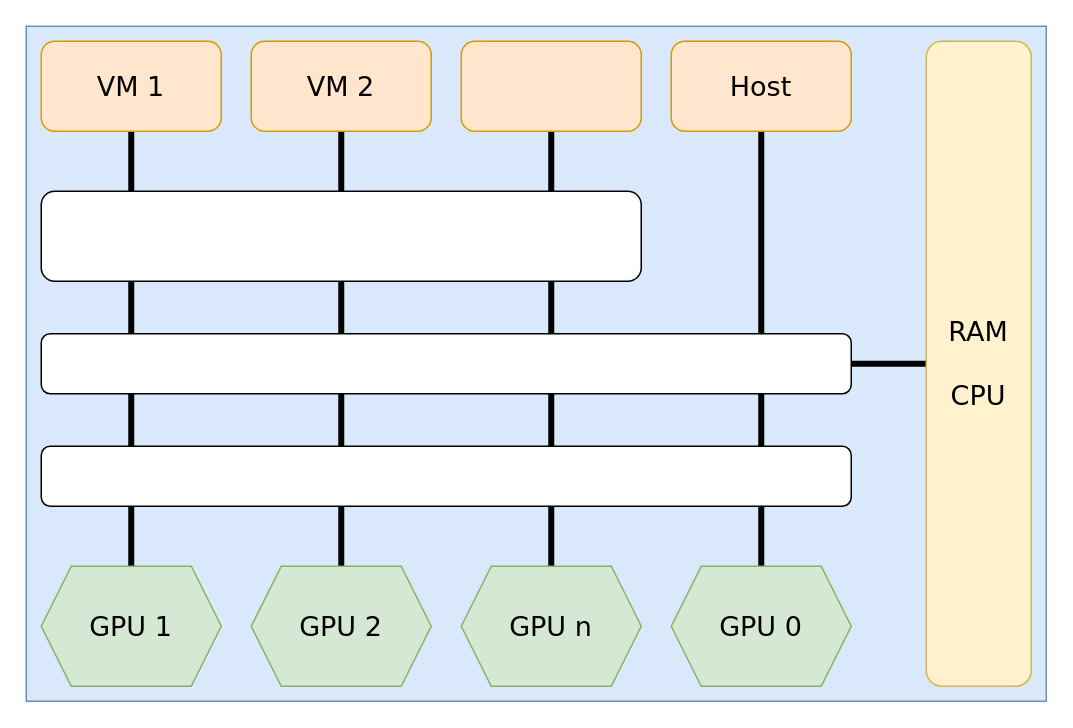
Some shapes in this 1073 by 728 pixel diagram are drawn without their labels. The centre of each missing label's shape, as x and y in pixels:
IOMMU (AMD Vi or Intel VT-d): the point at 445,363
KVM (hypervisor): the point at 340,235
PCIe bus with ACS: the point at 445,475
VM n: the point at 550,85
